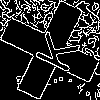K: (25, 25, 81, 75)
